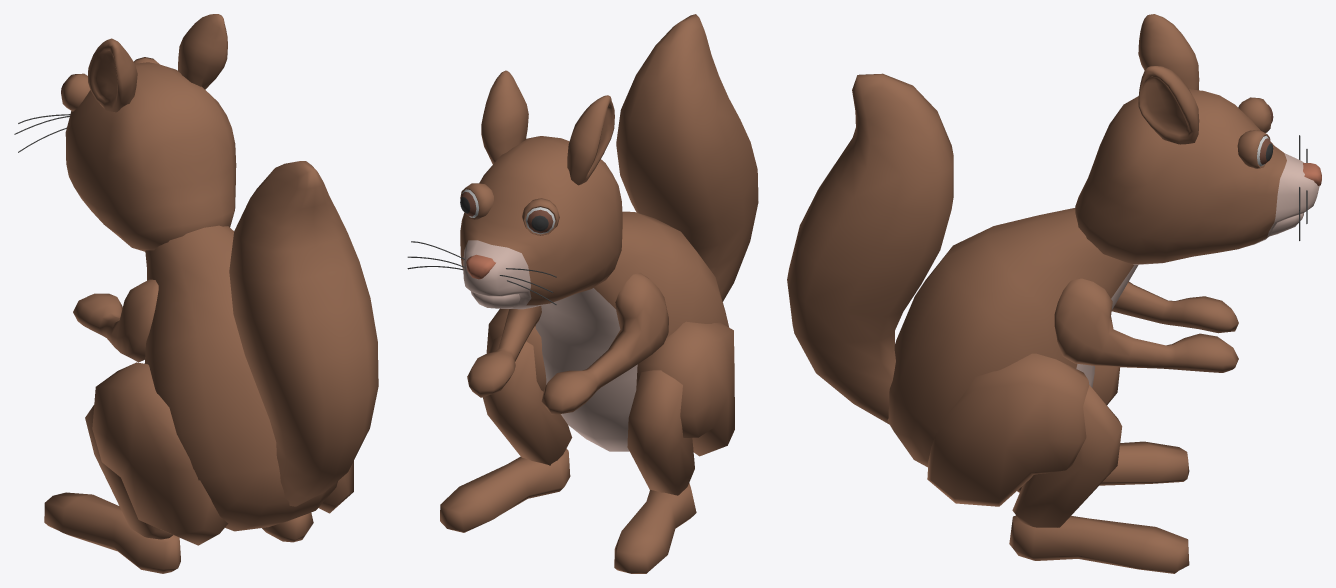
The model's file is 8 Squirrel.FBX.
The picture shows the model from 3 angles, left to right: view 1: azimuth 30°, elevation 25°; view 2: azimuth 150°, elevation 25°; view 3: azimuth 270°, elevation 25°; orthographic projection. The views are drawn at different scales.
Visible parts, largest first — view 1: Box095, Box094, Box092, Box096, Hand_Left, Ear_Right, Box093, Sphere028; view 2: Box096, Box095, Box092, Box094, Hand_Left, Ear_Right, Box098, Box093, Sphere028, Sphere029, Line006, Jaw (+1 smaller); view 3: Box095, Box096, Box094, Box092, Box098, Ear_Right, Hand_Left, Box093, Sphere029, Sphere028.
Part boxes in pixels (<box>): Box095: <box>229,161,378,506</box>; Box094: <box>144,225,337,531</box>; Box092: <box>65,62,236,251</box>; Box096: <box>44,362,353,573</box>; Hand_Left: <box>73,279,158,362</box>; Ear_Right: <box>178,14,227,89</box>; Box093: <box>88,38,137,112</box>; Sphere028: <box>61,73,90,111</box>; Box096: <box>440,308,734,573</box>; Box095: <box>616,14,758,301</box>; Box092: <box>460,136,622,309</box>; Box094: <box>535,211,729,451</box>; Hand_Left: <box>541,273,668,414</box>; Ear_Right: <box>481,70,528,164</box>; Box098: <box>467,305,541,397</box>; Box093: <box>567,95,614,185</box>; Sphere028: <box>522,198,559,235</box>; Sphere029: <box>460,183,493,219</box>; Line006: <box>407,241,556,304</box>; Jaw: <box>471,291,520,308</box>; Box095: <box>787,73,953,424</box>; Box096: <box>927,353,1189,573</box>; Box094: <box>887,208,1138,467</box>; Box092: <box>1075,89,1319,264</box>; Box098: <box>1054,278,1238,372</box>; Ear_Right: <box>1138,66,1199,144</box>; Hand_Left: <box>1112,281,1238,333</box>; Box093: <box>1138,14,1199,90</box>; Sphere029: <box>1237,130,1273,168</box>; Sphere028: <box>1238,97,1273,132</box>.
Bounding box in the file's own units: 58.31 × 120 × 121.
